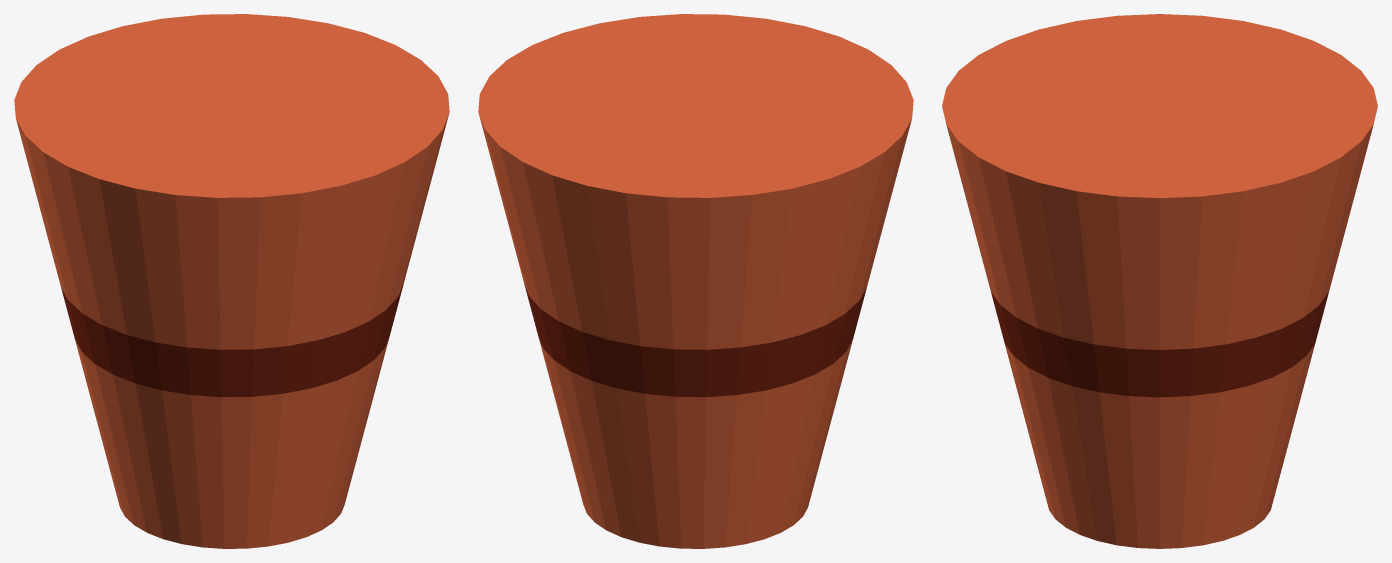
Rendered from BigStone.glb.
3 renders of one model, left to right at view 1: azimuth 30°, elevation 25°; view 2: azimuth 150°, elevation 25°; view 3: azimuth 270°, elevation 25°, orthographic.
Parts seen in each view (by area): view 1: Big_Stone; view 2: Big_Stone; view 3: Big_Stone.
Part boxes in pixels (x1,y1,x2,y2): Big_Stone: [14, 14, 449, 548]; Big_Stone: [478, 14, 913, 548]; Big_Stone: [942, 14, 1377, 548].
Bounding box in the file's own units: 2 × 2 × 2.
